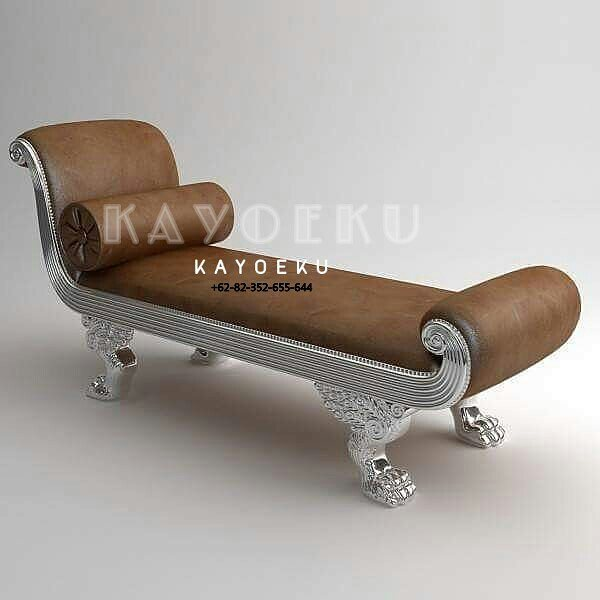Carving Chair: (7, 120, 556, 504)
